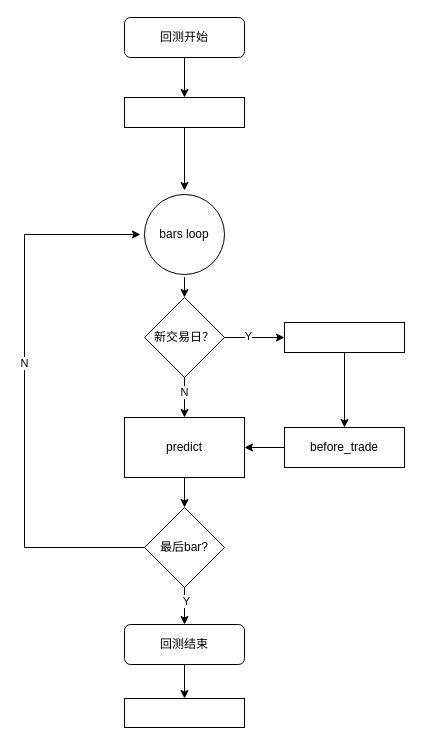
The diagram is 422 pixels wide and 745 high, and some of its shapes have lost their labels. Each missing label, with the centre of its shape:
"after_trade" goes at point 344,337.
"before_start" goes at point 184,112.
"make_report" goes at point 184,713.
